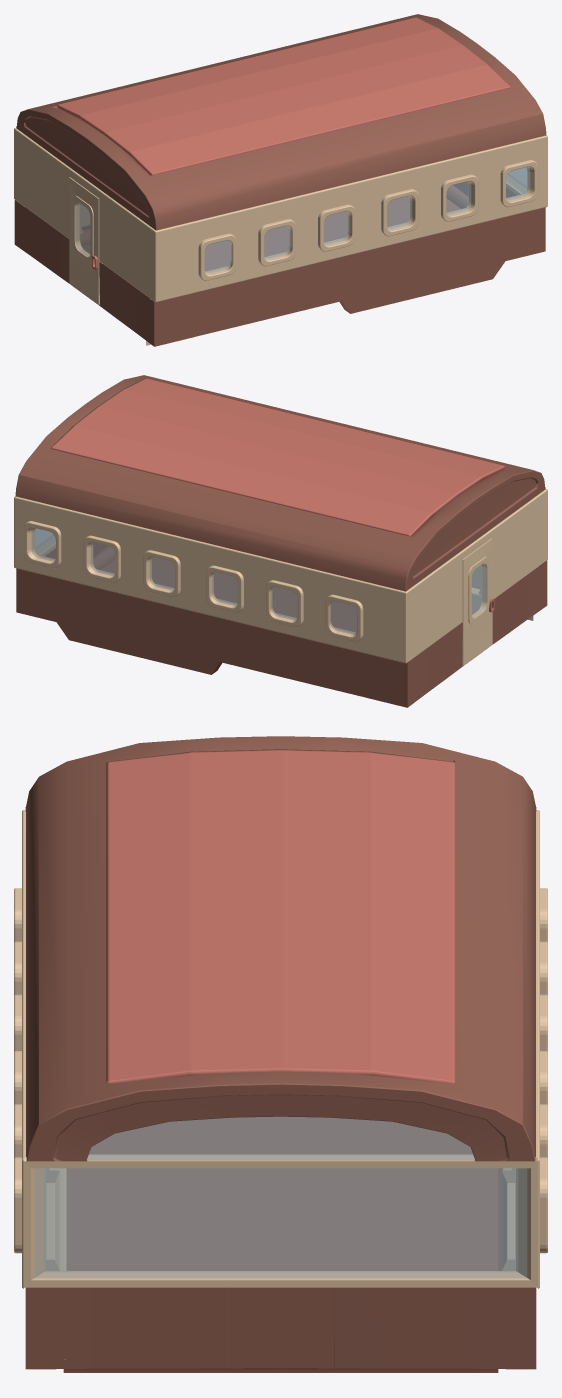
The model's file is CAB.fbx.
The picture shows the model from 3 angles, top to bottom: view 1: azimuth 30°, elevation 25°; view 2: azimuth 150°, elevation 25°; view 3: azimuth 270°, elevation 25°; orthographic projection. The views are drawn at different scales.
Visible parts, largest first — view 1: Mode_Prop_Train:Plafond, Milieu_wagon, Haut_wagon, Mode_Prop_Train:Bas_wagon, Mode_Prop_Train:Vitres, Mode_Prop_Train:Portes, Mode_Prop_Train:Vitre_porte; view 2: Mode_Prop_Train:Plafond, Milieu_wagon, Haut_wagon, Mode_Prop_Train:Bas_wagon, Mode_Prop_Train:Vitres, Mode_Prop_Train:Portes, Mode_Prop_Train:Vitre_porte; view 3: Mode_Prop_Train:Plafond, Mode_Prop_Train:Bas_wagon, Haut_wagon, MODIF_Vitre_BAS, Milieu_wagon, MODIF_Vitre_HAUT, Deco_2.
Part boxes in pixels (left/top/right/bottom): Mode_Prop_Train:Plafond: left=57, top=17, right=510, bottom=175; Milieu_wagon: left=14, top=128, right=547, bottom=302; Haut_wagon: left=16, top=14, right=546, bottom=230; Mode_Prop_Train:Bas_wagon: left=14, top=182, right=545, bottom=346; Mode_Prop_Train:Vitres: left=204, top=167, right=529, bottom=273; Mode_Prop_Train:Portes: left=69, top=177, right=102, bottom=304; Mode_Prop_Train:Vitre_porte: left=75, top=202, right=90, bottom=256; Mode_Prop_Train:Plafond: left=51, top=378, right=504, bottom=536; Milieu_wagon: left=14, top=489, right=547, bottom=663; Haut_wagon: left=15, top=375, right=545, bottom=591; Mode_Prop_Train:Bas_wagon: left=16, top=543, right=547, bottom=707; Mode_Prop_Train:Vitres: left=32, top=528, right=357, bottom=634; Mode_Prop_Train:Portes: left=459, top=538, right=492, bottom=665; Mode_Prop_Train:Vitre_porte: left=471, top=563, right=486, bottom=617; Mode_Prop_Train:Plafond: left=106, top=749, right=455, bottom=1083; Mode_Prop_Train:Bas_wagon: left=25, top=1117, right=536, bottom=1372; Haut_wagon: left=25, top=736, right=536, bottom=1161; MODIF_Vitre_BAS: left=35, top=1168, right=526, bottom=1277; Milieu_wagon: left=14, top=810, right=547, bottom=1288; MODIF_Vitre_HAUT: left=87, top=1116, right=474, bottom=1160; Deco_2: left=46, top=1168, right=515, bottom=1270.
Bounding box in the file's own units: 7.78 × 3.26 × 4.98.
